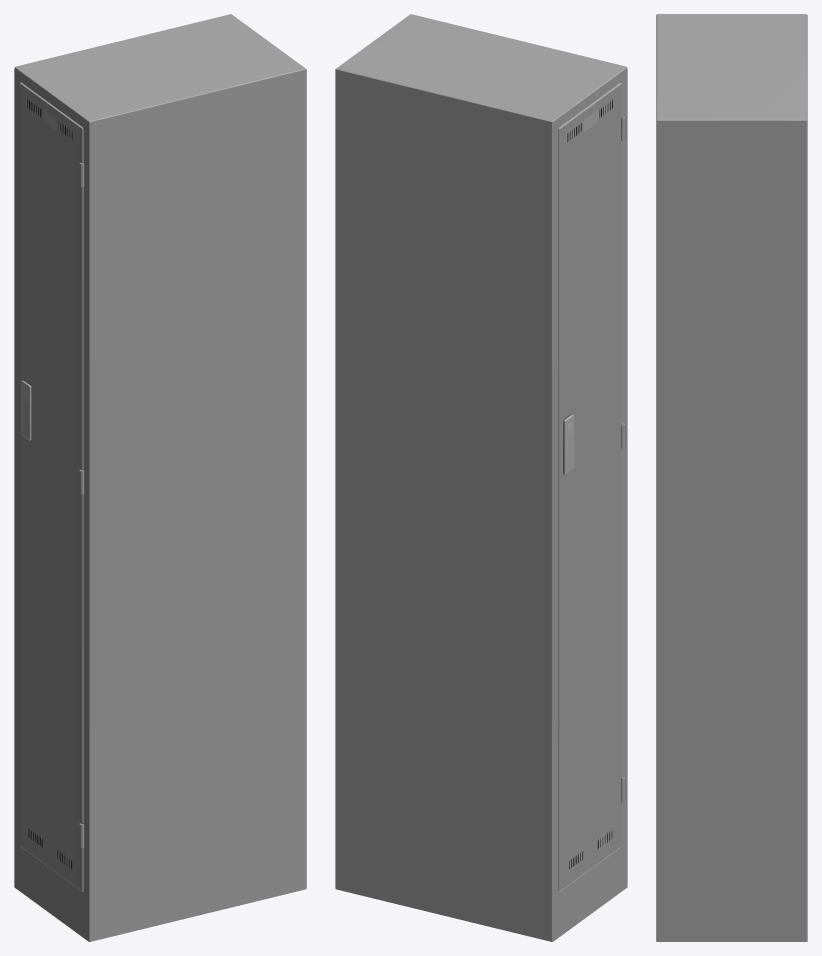
The model's file is SM_Lockers_01.fbx.
3 renders of one model, left to right at view 1: azimuth 30°, elevation 25°; view 2: azimuth 150°, elevation 25°; view 3: azimuth 270°, elevation 25°, orthographic.
Parts seen in each view (by area): view 1: SM_Lockers_01_LOD0; view 2: SM_Lockers_01_LOD0; view 3: SM_Lockers_01_LOD0.
Boxes of the visible parts, <box> form: SM_Lockers_01_LOD0: <box>14,14,306,941</box>; SM_Lockers_01_LOD0: <box>335,14,627,941</box>; SM_Lockers_01_LOD0: <box>656,14,807,941</box>.
Bounding box in the file's own units: 50.72 × 30 × 180.
